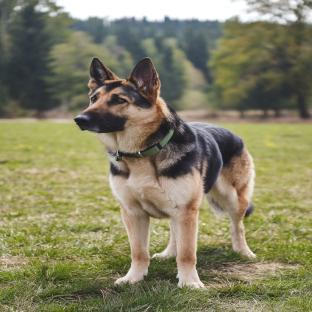Animal: (75, 57, 256, 288)
